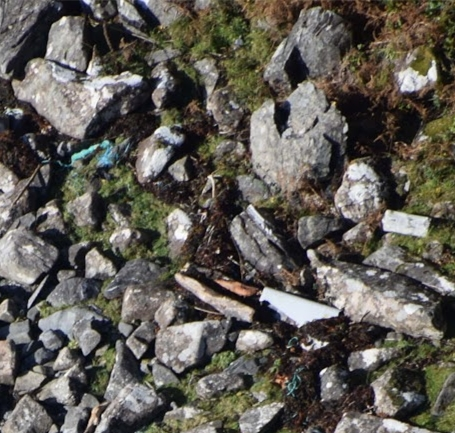cuboid: (257, 283, 345, 331), (377, 203, 436, 241)
net: (65, 138, 124, 170)
scattered_barrel: (271, 329, 331, 401)
straight_bar: (175, 271, 258, 326), (214, 269, 259, 301)
